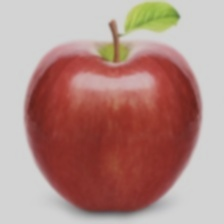apple: (26, 8, 165, 188)
